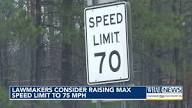70 MPH: (82, 1, 129, 87)
